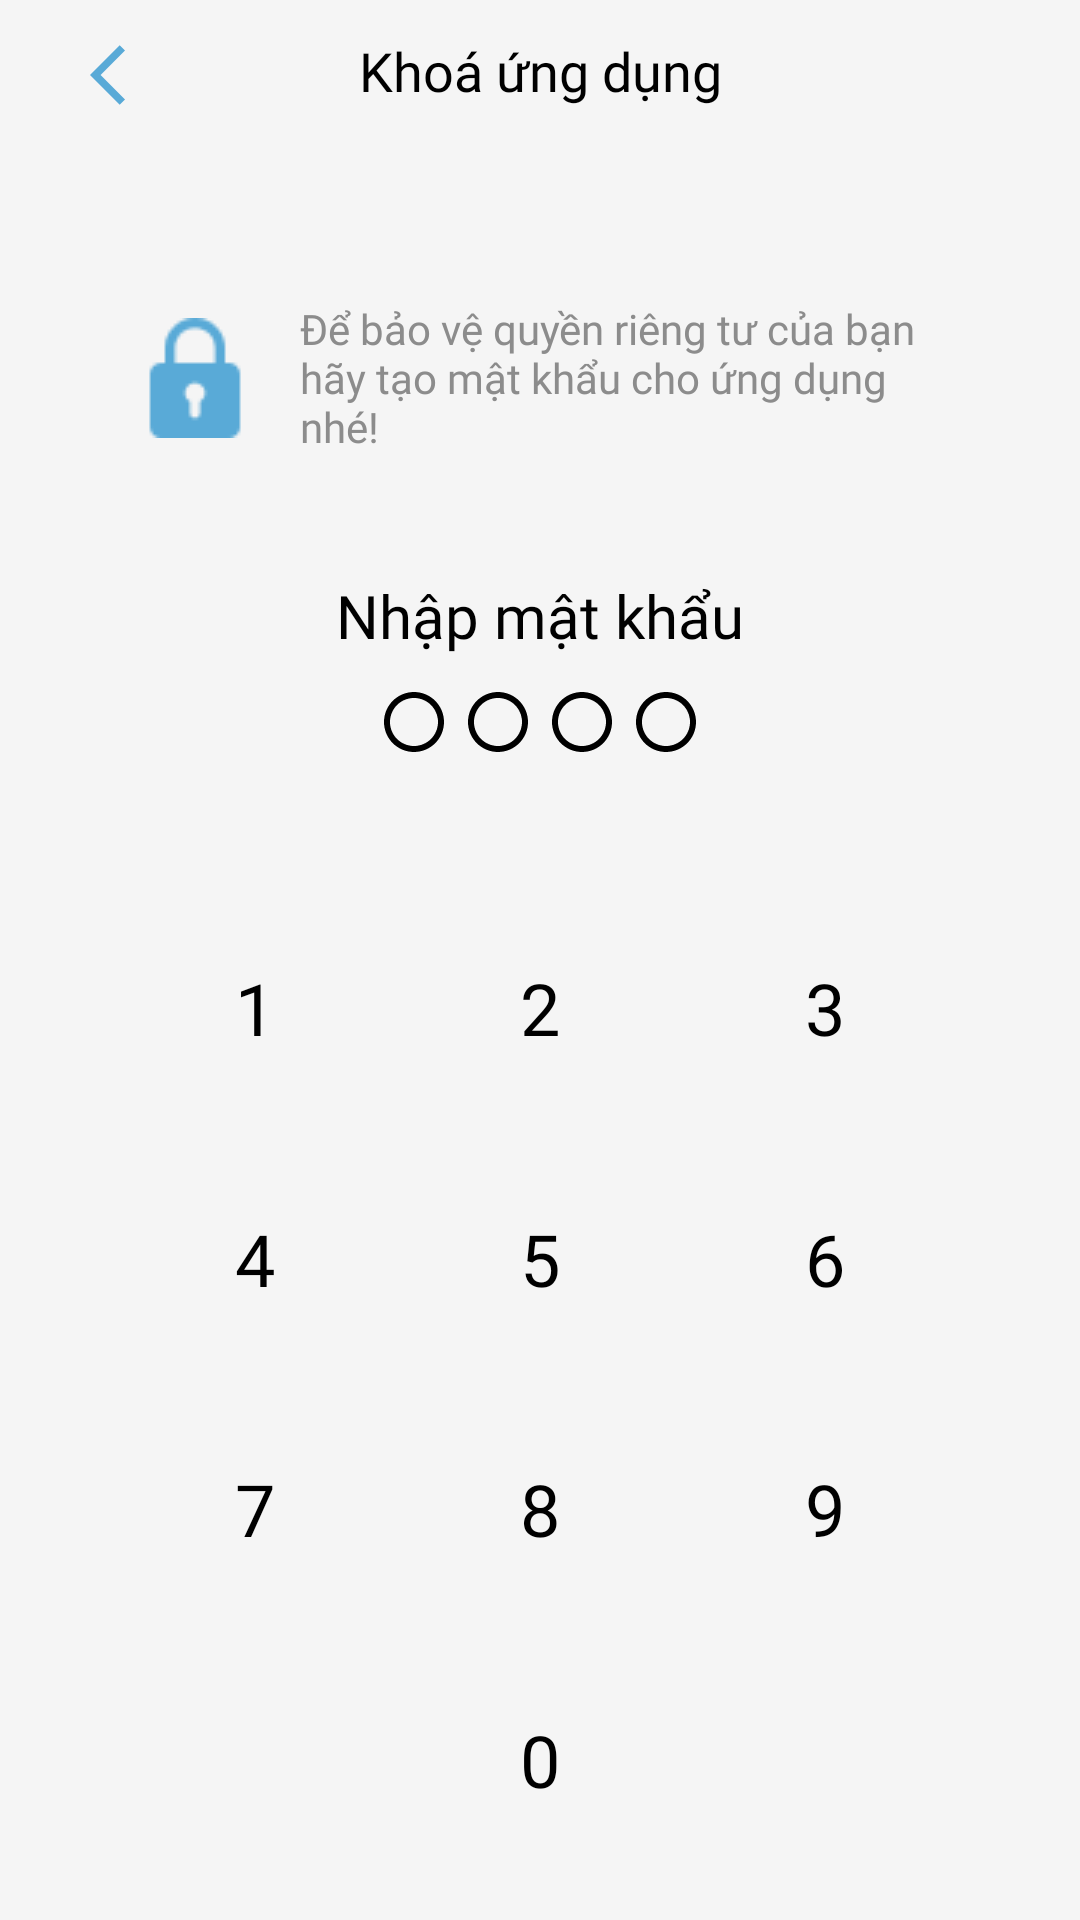

Named icons in this screenshot (1080w x 1920h) and their bounding boxes, detection(x1, y1, x2, y2):
back toolbar: detection(90, 45, 125, 105)
lockapp: detection(149, 318, 241, 438)
radio unchecked: detection(384, 692, 444, 752), detection(468, 692, 528, 752), detection(552, 692, 612, 752), detection(636, 692, 696, 752)
